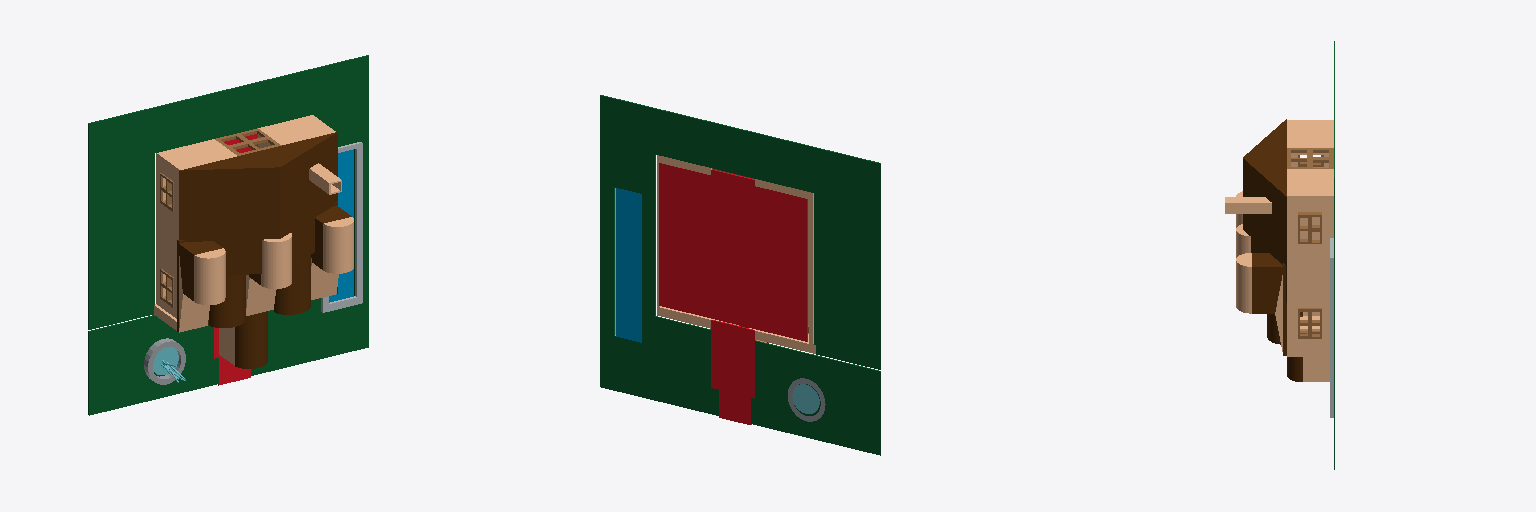
File: tinker.obj
3 views of the same model, side by side, from view 1: azimuth 30°, elevation 25°; view 2: azimuth 150°, elevation 25°; view 3: azimuth 270°, elevation 25° (orthographic).
Visible parts, largest first — view 1: obj_0; view 2: obj_0; view 3: obj_0.
Part boxes in pixels (x1,y1,x2,y2): obj_0: (88,55,368,415); obj_0: (600,95,880,455); obj_0: (1225,41,1334,469).
Bounding box in the file's own units: 199 × 199 × 68.